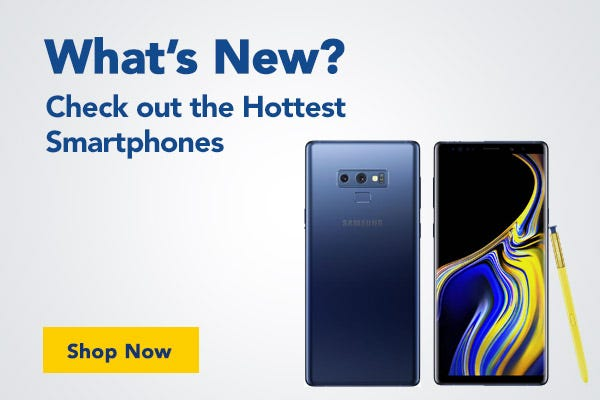phones: (429, 132, 561, 397), (296, 135, 429, 395)
